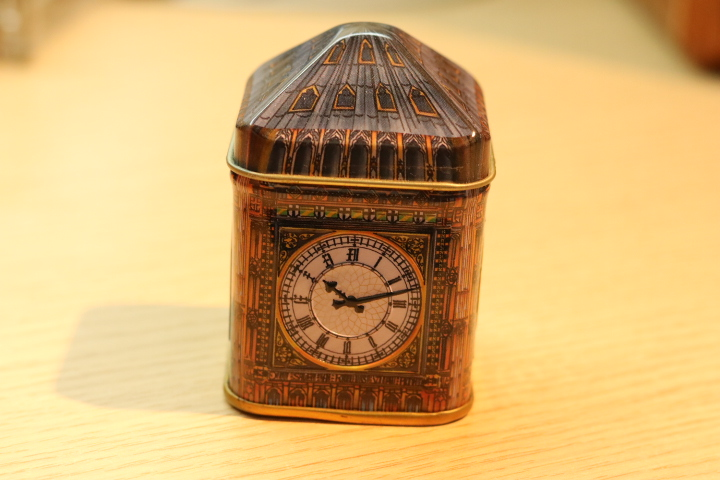Big Ben: (217, 12, 507, 443)
